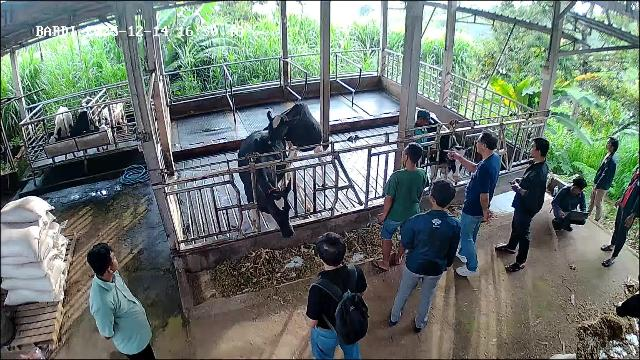mounting: (262, 100, 322, 199)
